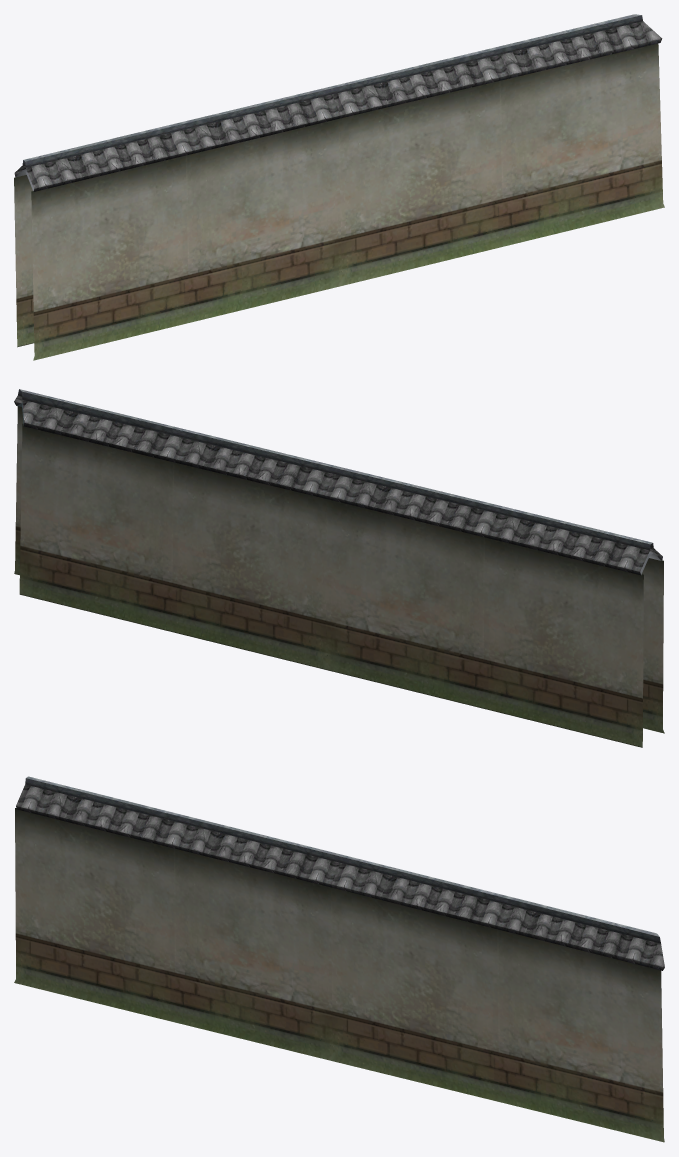
Rendered from Wall Corner Right.FBX.
3 renders of one model, top to bottom at view 1: azimuth 30°, elevation 25°; view 2: azimuth 150°, elevation 25°; view 3: azimuth 330°, elevation 25°, orthographic. The views are drawn at different scales.
Visible parts, largest first — view 1: 355d4480.obj; view 2: 355d4480.obj; view 3: 355d4480.obj.
Part boxes in pixels (bbox=[...]): 355d4480.obj: bbox=[14, 14, 664, 360]; 355d4480.obj: bbox=[14, 389, 664, 747]; 355d4480.obj: bbox=[14, 776, 664, 1142].
Size of the model in its own units: 0.00143 by 0.000417 by 8.73e-05.
2 materials, 2 textured.
